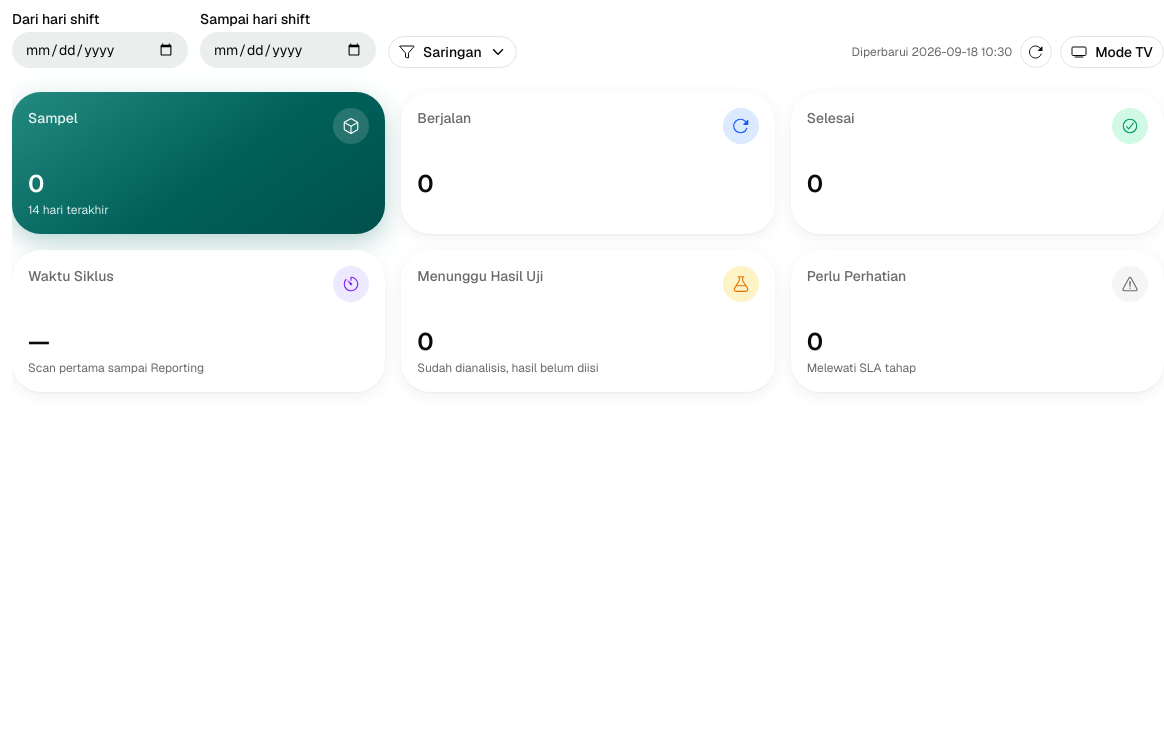
Test: dashboard filters › resolves every label in id
The image size is (1164, 732).
Click the button "Saringan": (452, 52) [388,36,517,68]
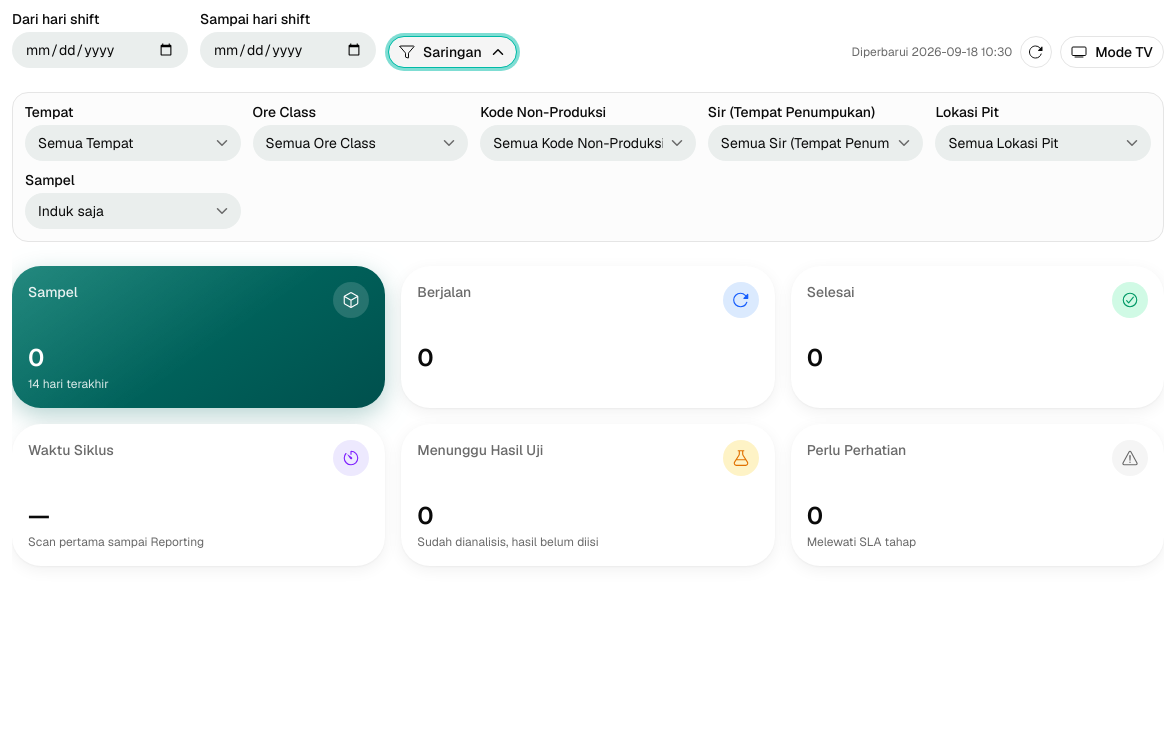
Result: the dropdown labelled "Semua Tempat" is shown at [25,125,241,161]
